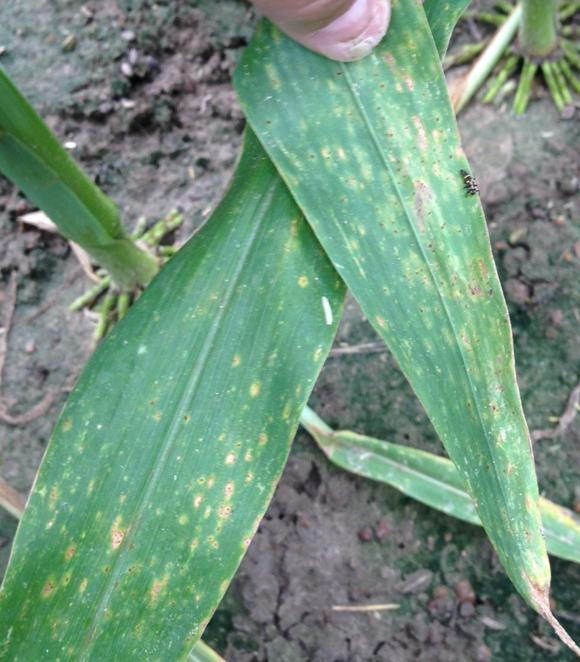Corn_Common_Rust: (0, 447, 268, 662), (283, 191, 541, 406), (47, 252, 331, 446), (389, 406, 576, 662), (212, 25, 480, 202)
